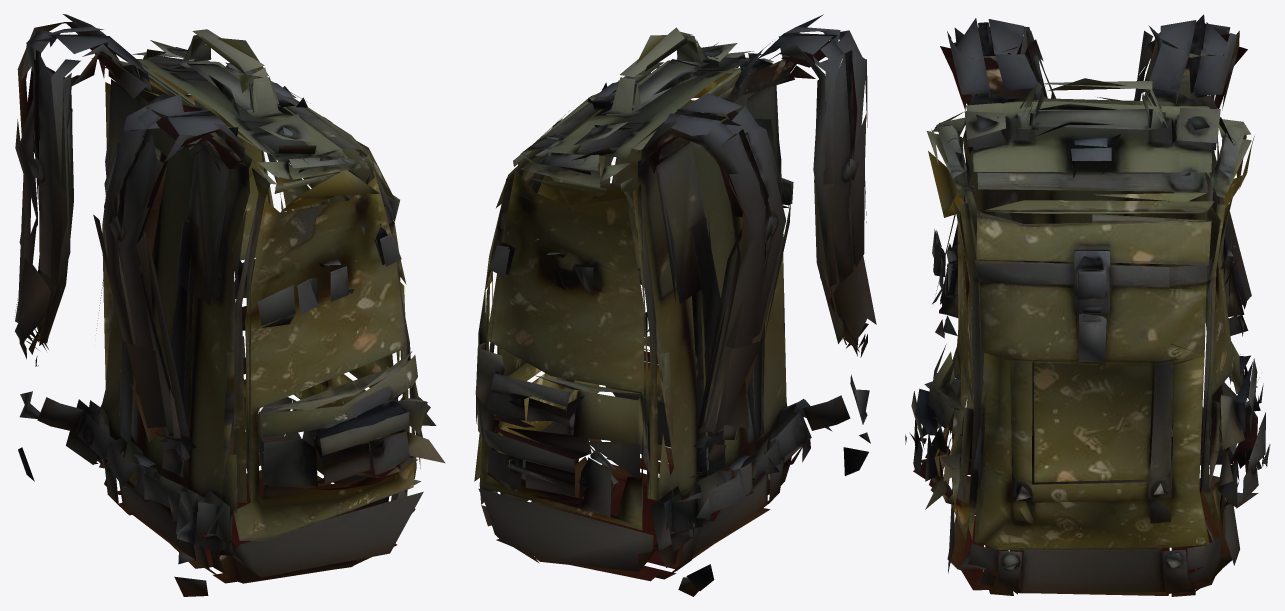
Rendered from mer_radio_backpack_LOD3.glb.
3 views of the same model, side by side, from view 1: azimuth 30°, elevation 25°; view 2: azimuth 150°, elevation 25°; view 3: azimuth 270°, elevation 25° (orthographic). The views are drawn at different scales.
Parts seen in each view (by area): view 1: tripo_node_254d8034-fd76-4caa-8b75-29ac752a5a79; view 2: tripo_node_254d8034-fd76-4caa-8b75-29ac752a5a79; view 3: tripo_node_254d8034-fd76-4caa-8b75-29ac752a5a79.
Boxes of the visible parts, <box> form: tripo_node_254d8034-fd76-4caa-8b75-29ac752a5a79: <box>15,14,445,596</box>; tripo_node_254d8034-fd76-4caa-8b75-29ac752a5a79: <box>474,14,876,596</box>; tripo_node_254d8034-fd76-4caa-8b75-29ac752a5a79: <box>905,14,1270,596</box>.
Size of the model in its own units: 0.5463 by 0.8595 by 0.5957.
1 material, 1 textured.
